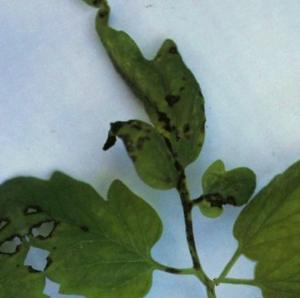Tomato leaf bacterial spot: (51, 0, 230, 211), (0, 122, 188, 298)
